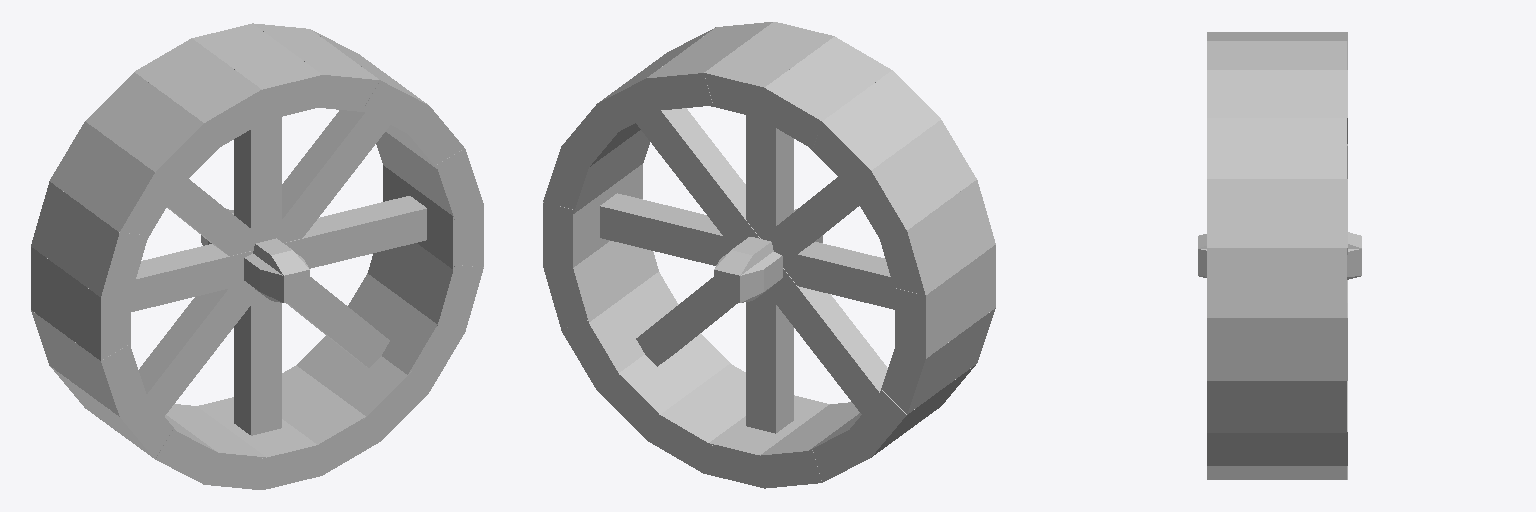
File: axle_flywheel_large.obj
3 views of the same model, side by side, from view 1: azimuth 30°, elevation 25°; view 2: azimuth 150°, elevation 25°; view 3: azimuth 270°, elevation 25° (orthographic).
Visible parts, largest first — view 1: fly_wheel, Cube; view 2: fly_wheel, Cube; view 3: fly_wheel, Cube.
Part boxes in pixels (bbox=[...]): fly_wheel: bbox=[31, 23, 483, 489]; Cube: bbox=[201, 209, 309, 302]; fly_wheel: bbox=[543, 22, 995, 488]; Cube: bbox=[714, 209, 822, 302]; fly_wheel: bbox=[1207, 32, 1347, 479]; Cube: bbox=[1198, 232, 1361, 279].
Size of the model in its own units: 2.68 by 2.68 by 0.9992.